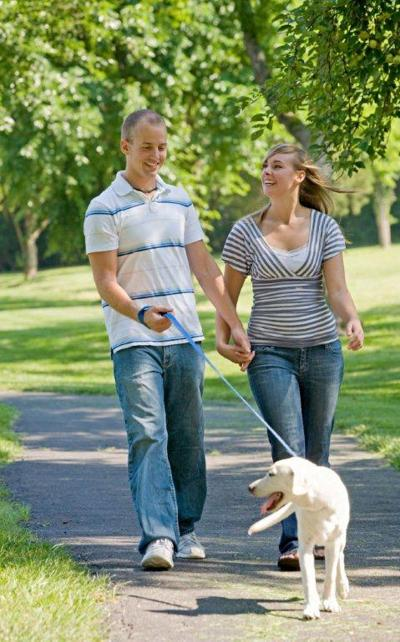person: (83, 109, 251, 562)
